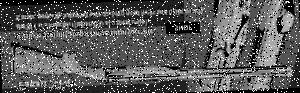shotgun: (2, 40, 295, 85)
